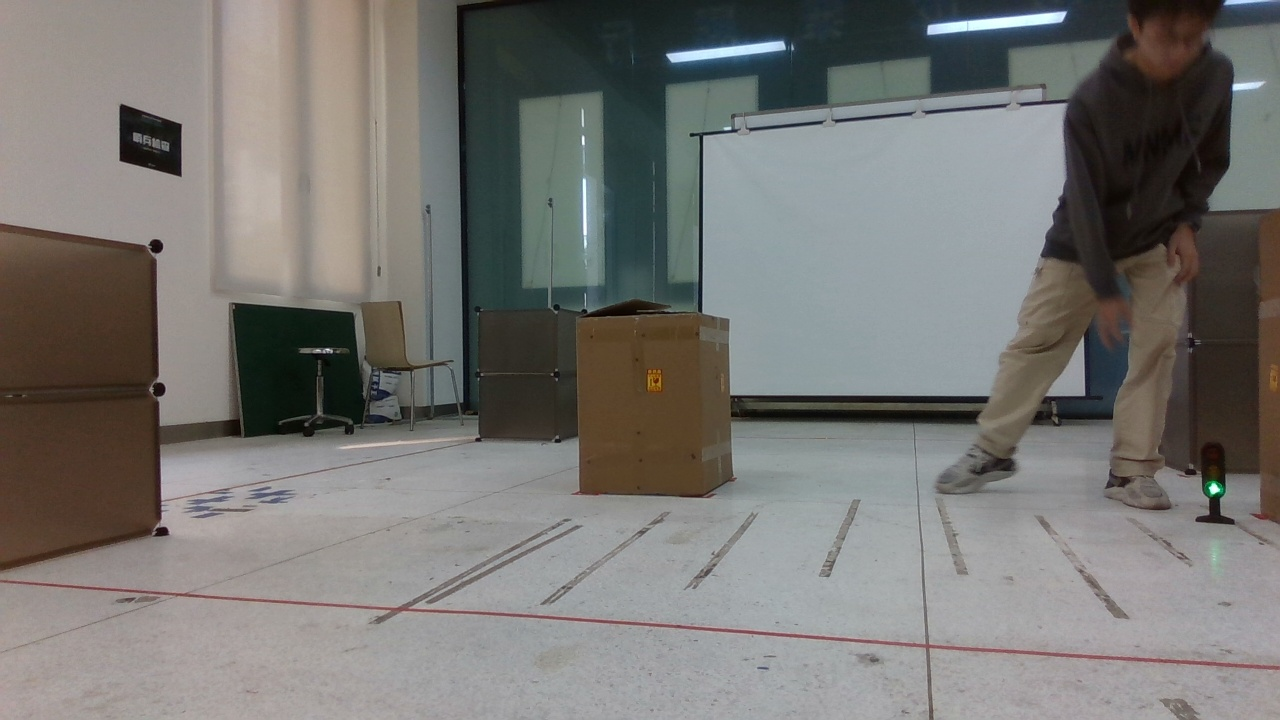green_light: (1194, 437, 1240, 523)
